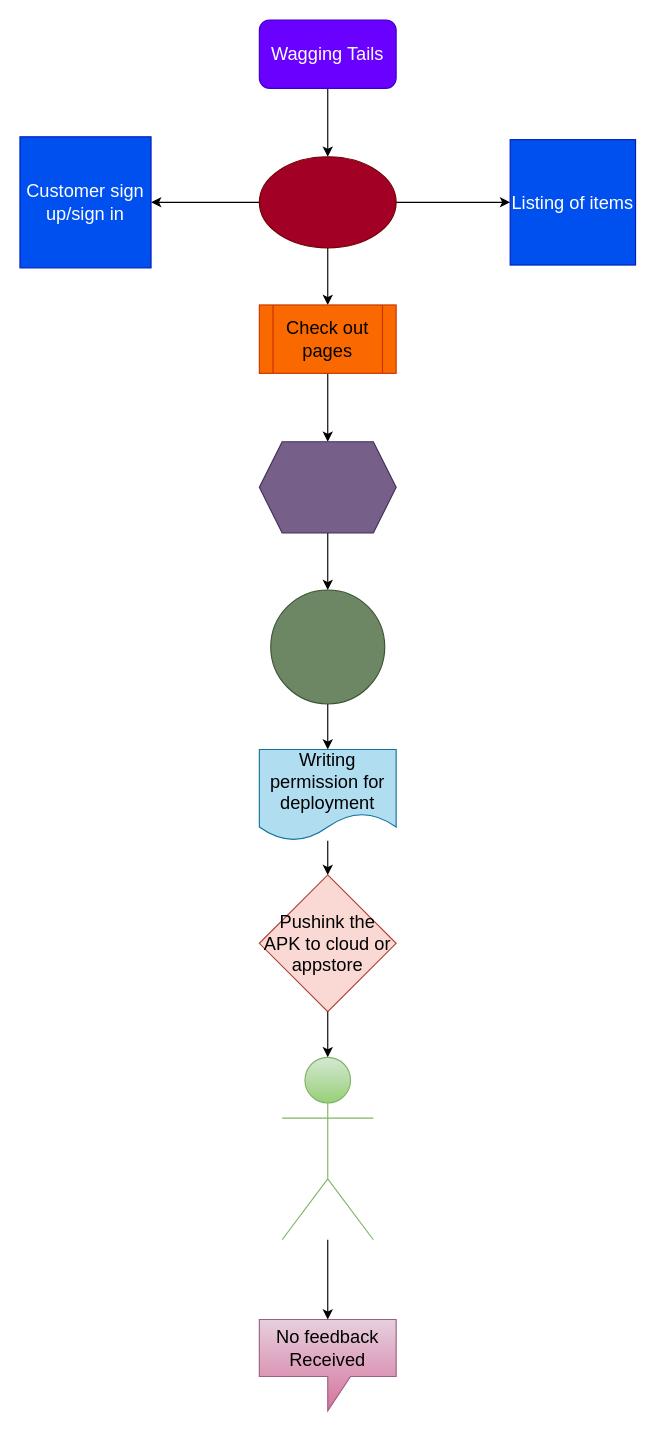
This 656x1431 diagram has some shape labels left out. Here are the shapes that lost their labels. From the top down, the centre of each, then its label:
At (327,202): "Designui/ux".
At (327,487): "Compiling into apk".
At (327,646): "No Bugs found".
At (327,1148): "Customer using applications".
